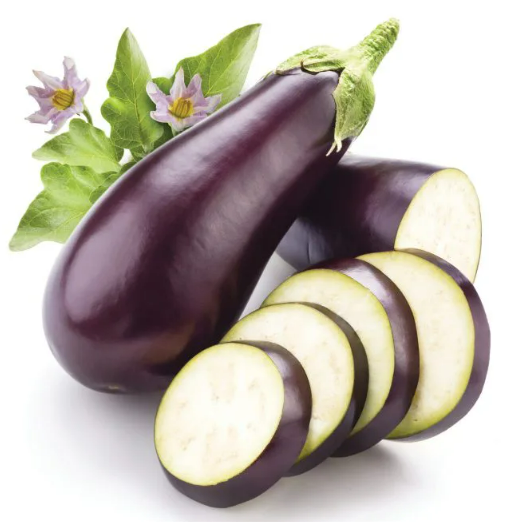catim: (36, 1, 406, 400), (254, 251, 423, 452), (279, 137, 485, 297), (356, 234, 498, 448), (148, 340, 313, 508), (219, 301, 372, 468)
